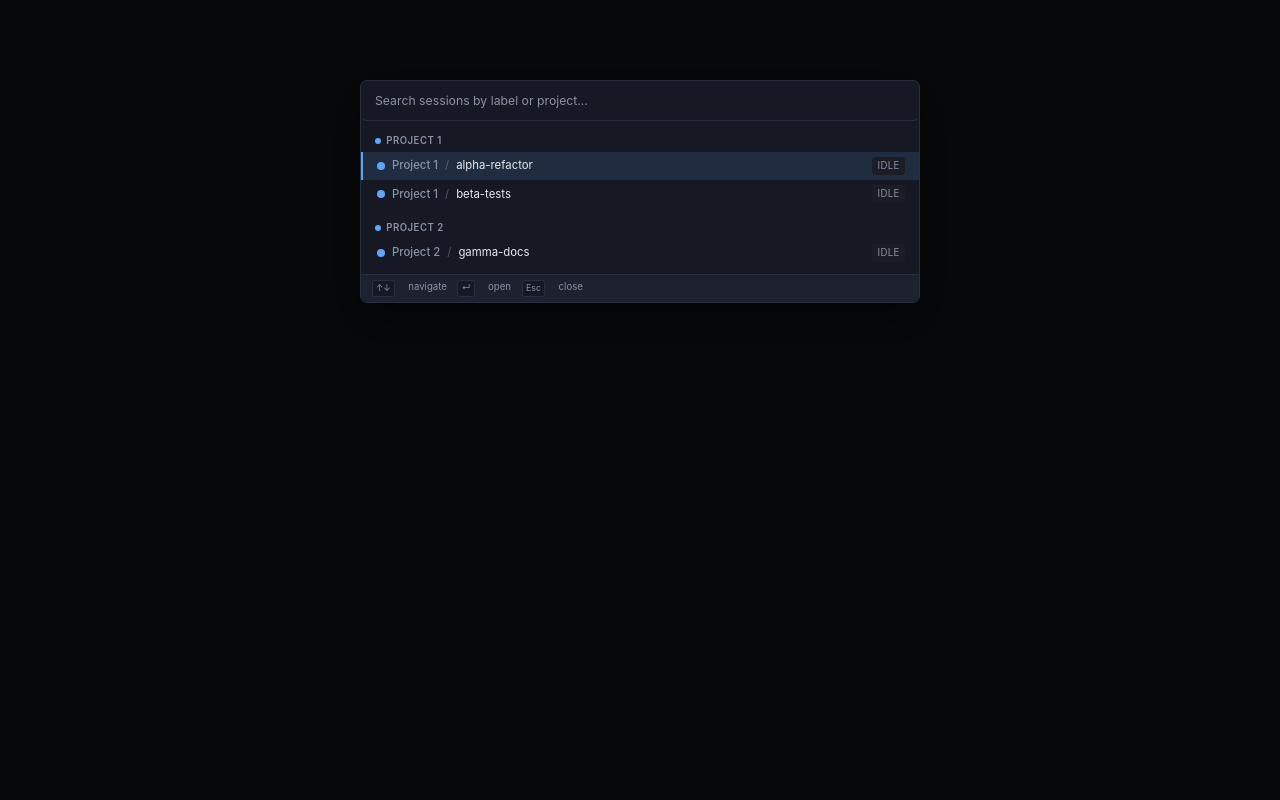
Test case: CommandPalette › narrows the list when the user types in the filter
The image size is (1280, 800).
Type "gamma" into the field with placeholder "Search sessions by label or project…" at (640,101), box [361,81,919,121]
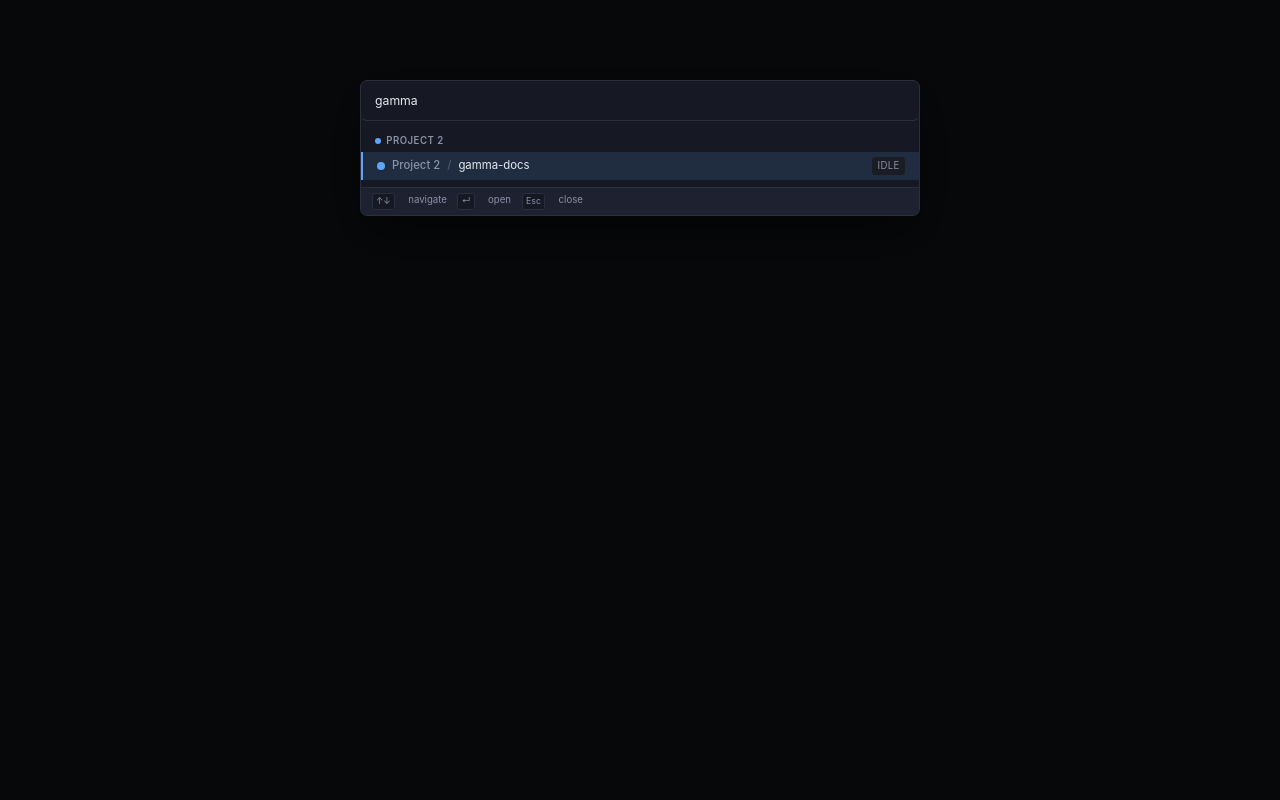
Expected: the text "gamma-docs" is shown, [458,157,530,174]
Expected: the number of options is 1, [361,152,919,180]
